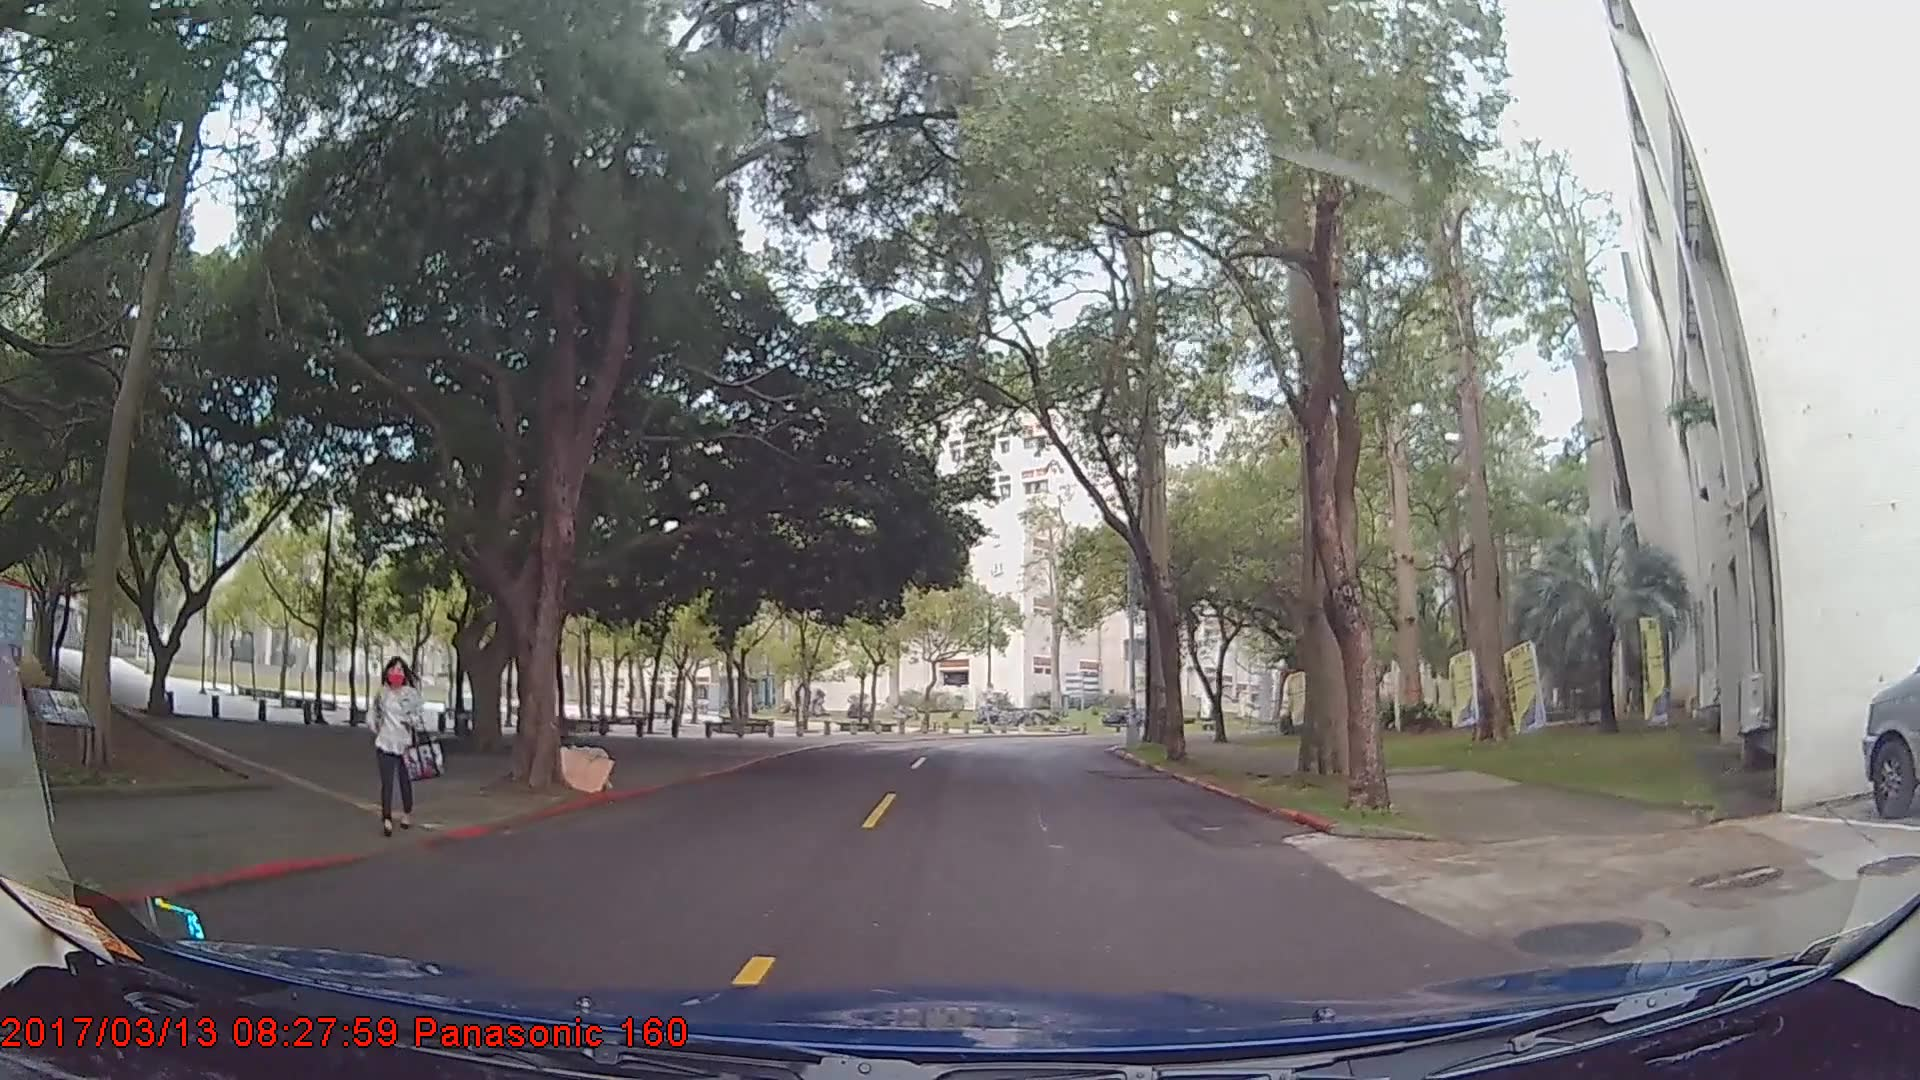pedestrian: (363, 649, 439, 836)
